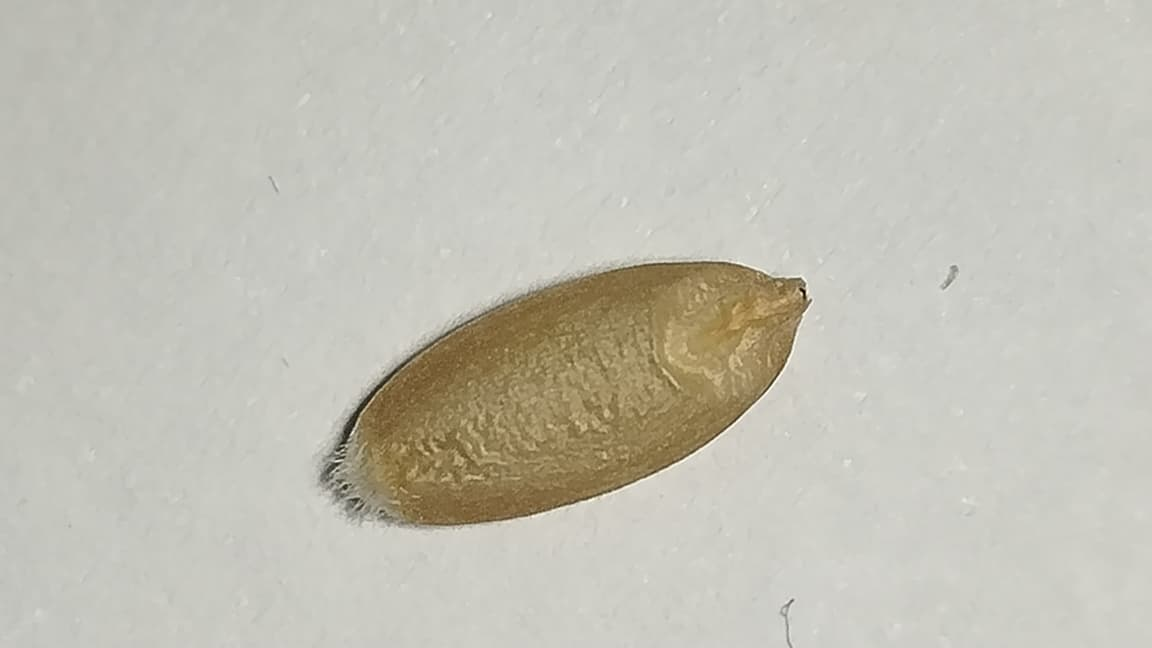healthy: (321, 261, 809, 529)
